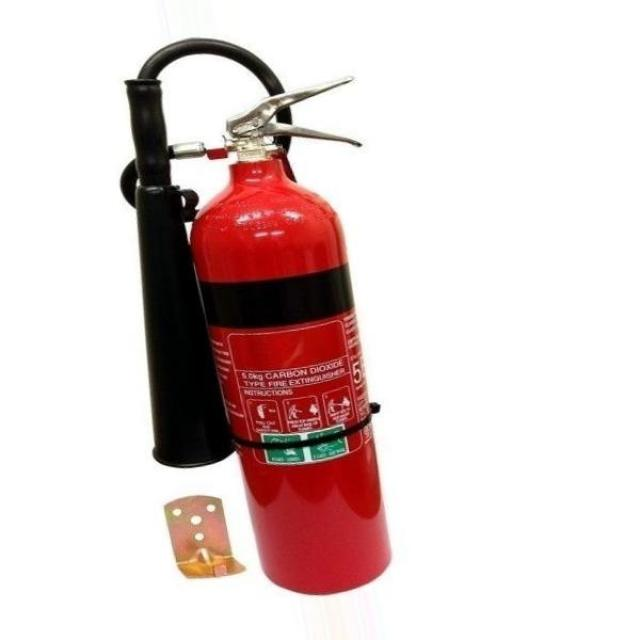fire_extinguisher: (115, 32, 399, 599)
